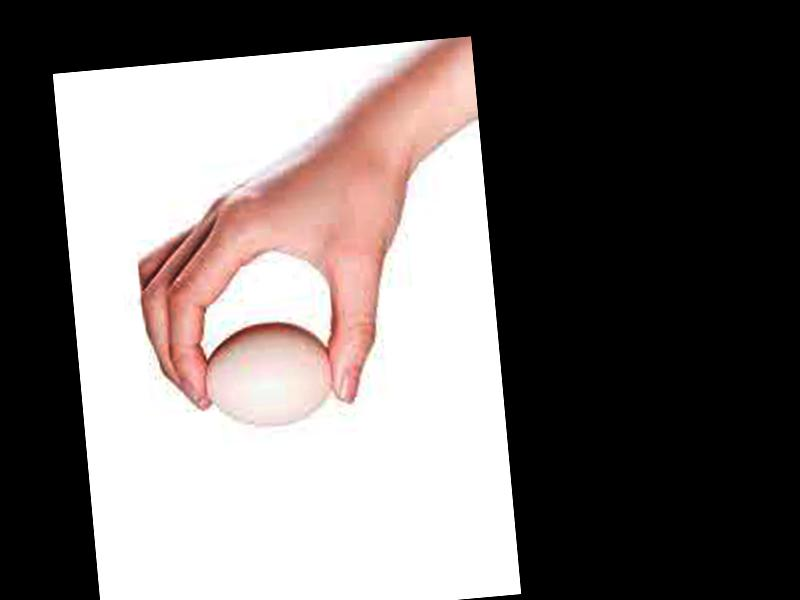Eggs: (199, 317, 337, 432)
